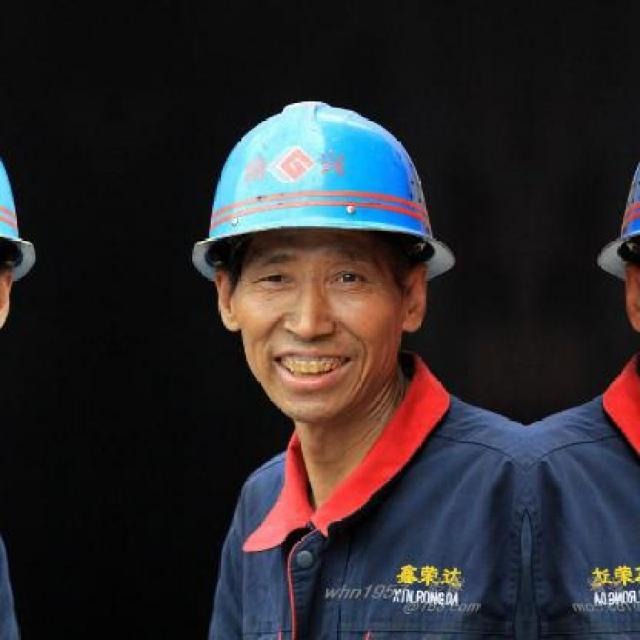helmet: (170, 96, 470, 450)
